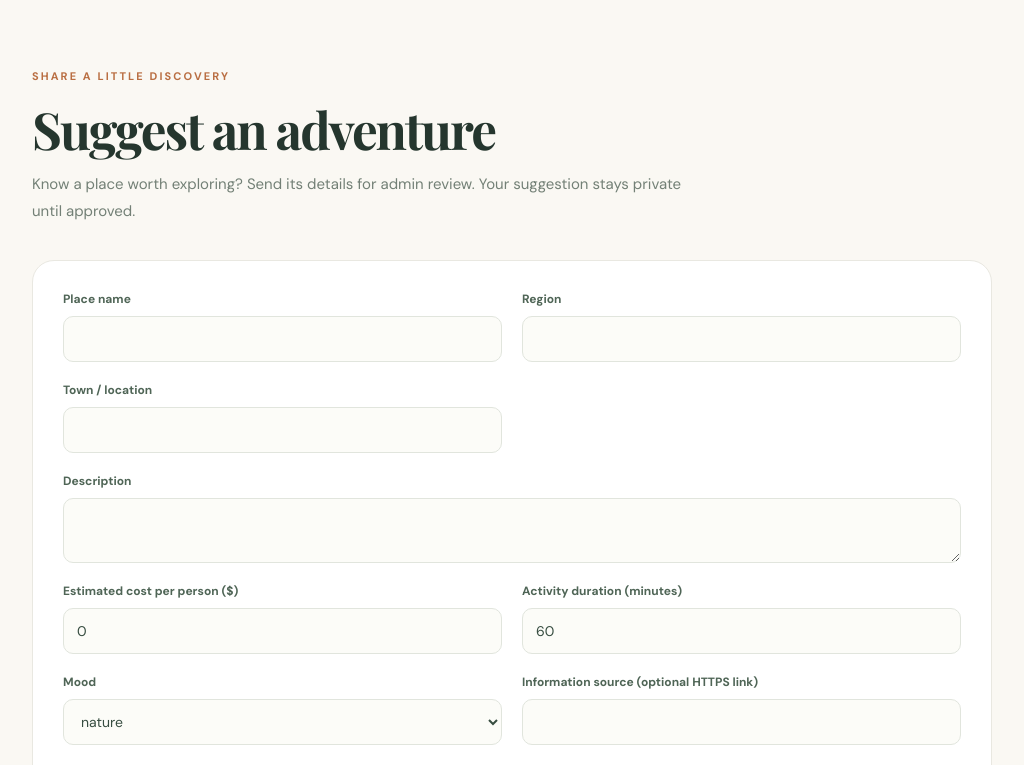
it: submitting a place shows pending status and confirmation
The image size is (1024, 765).
Step 1. Type "Village walk" into the field labelled "Place name" → coordinates (282, 339), box [63, 316, 502, 362]
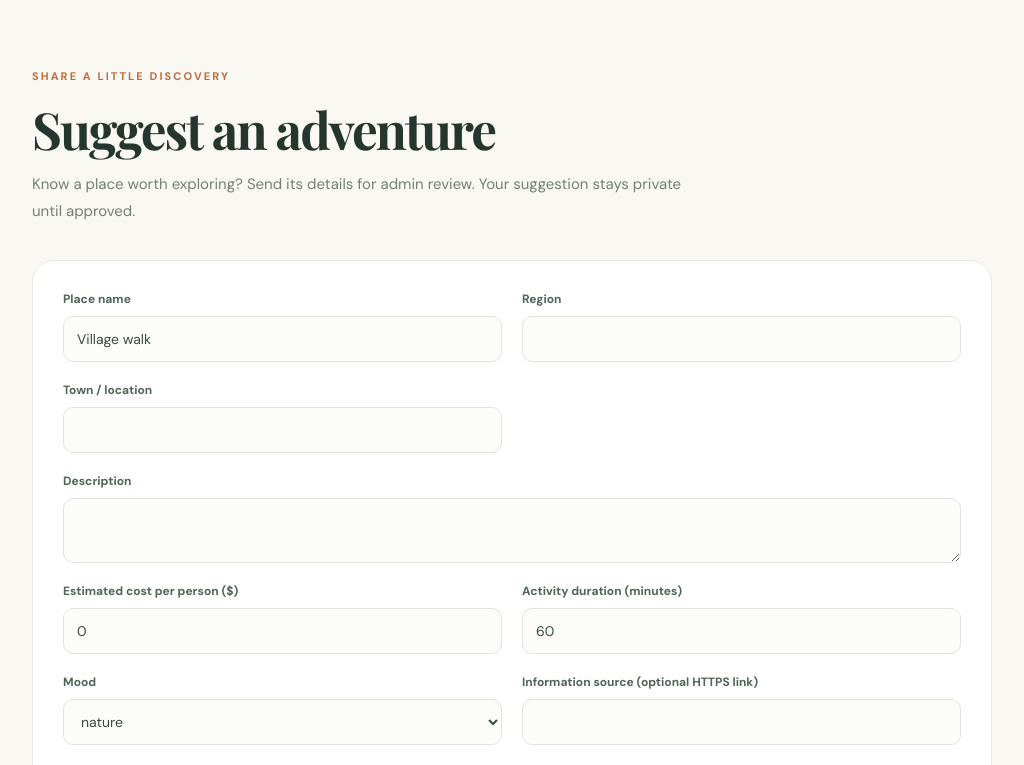
Step 2. Type "Chouf" into the field labelled "Region" → coordinates (742, 339), box [522, 316, 961, 362]
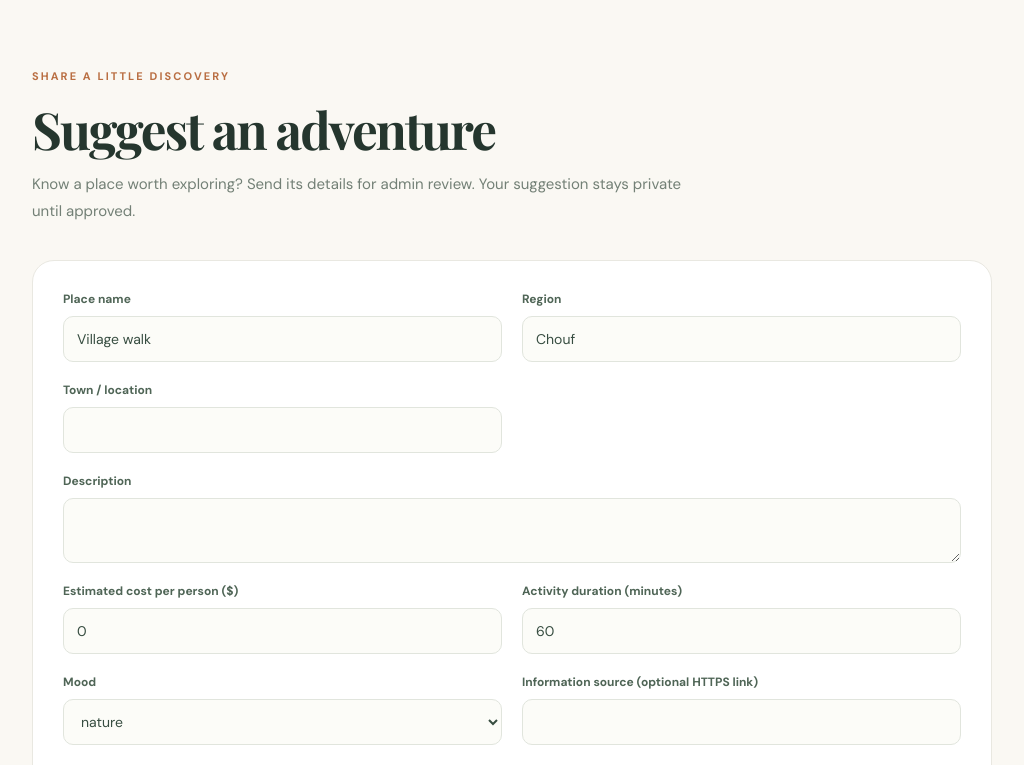
Step 3. Type "Daraya" into the field labelled "Town / location" → coordinates (282, 430), box [63, 407, 502, 453]
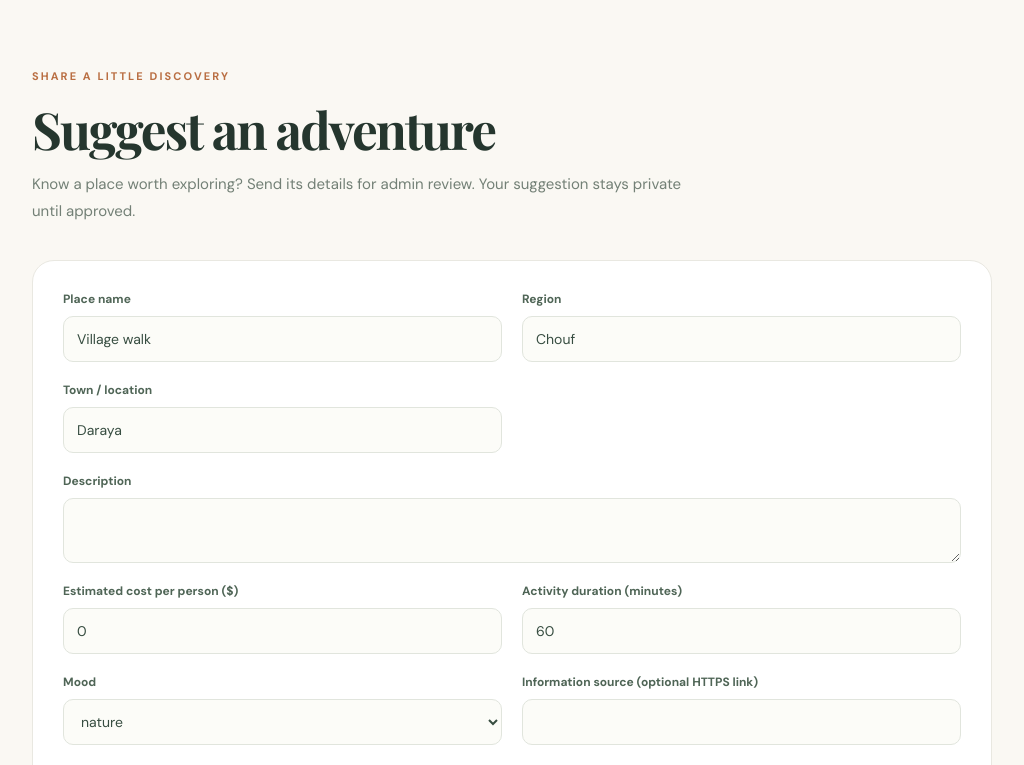
Step 4. Type "A wonderful village walk." into the text box labelled "Description" → coordinates (512, 530), box [63, 498, 961, 563]
(page scrolled)
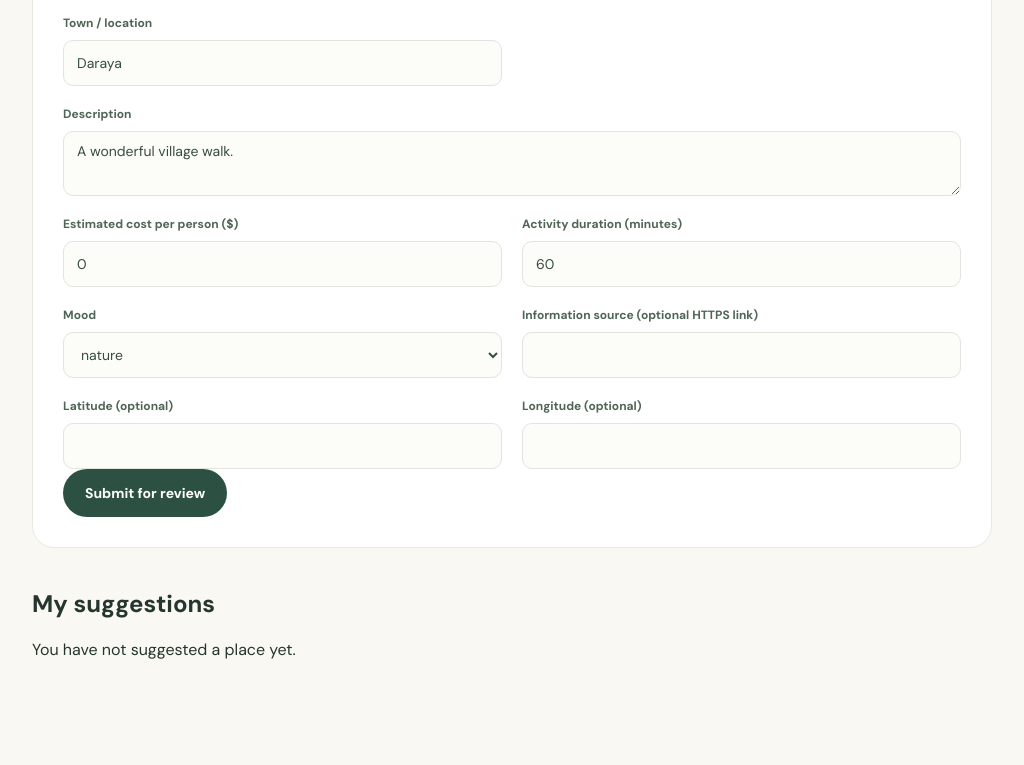
Step 5. Click the button "Submit for review" → coordinates (145, 493), box [63, 469, 227, 517]
(page scrolled)
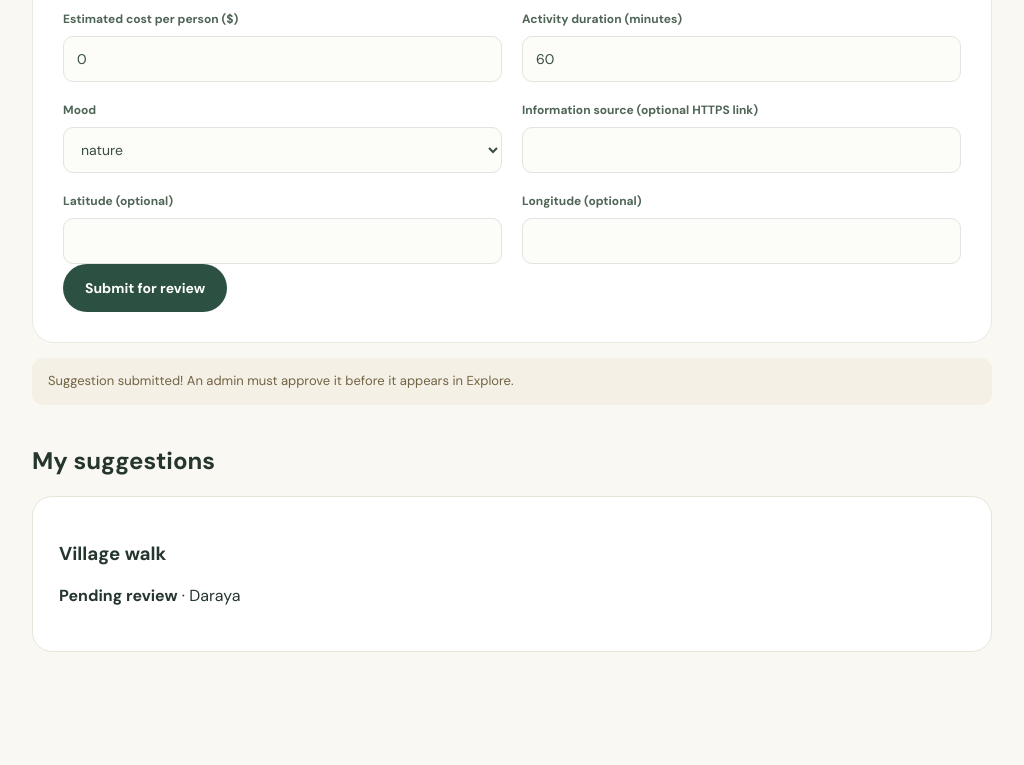
Result: the text "Pending review" is shown at [59, 585, 178, 606]
